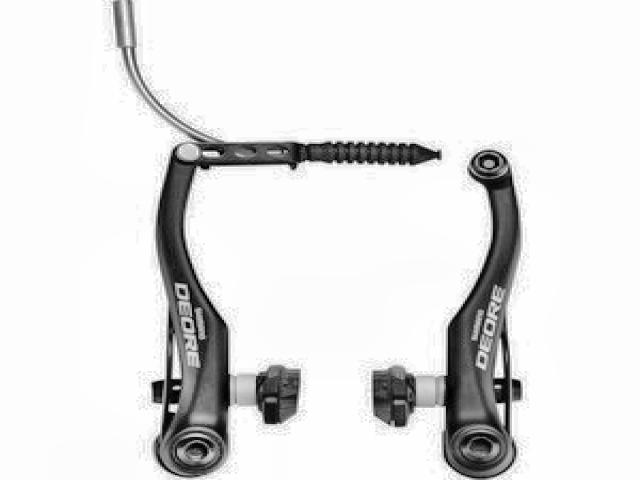rim_brake: (144, 135, 521, 480)
